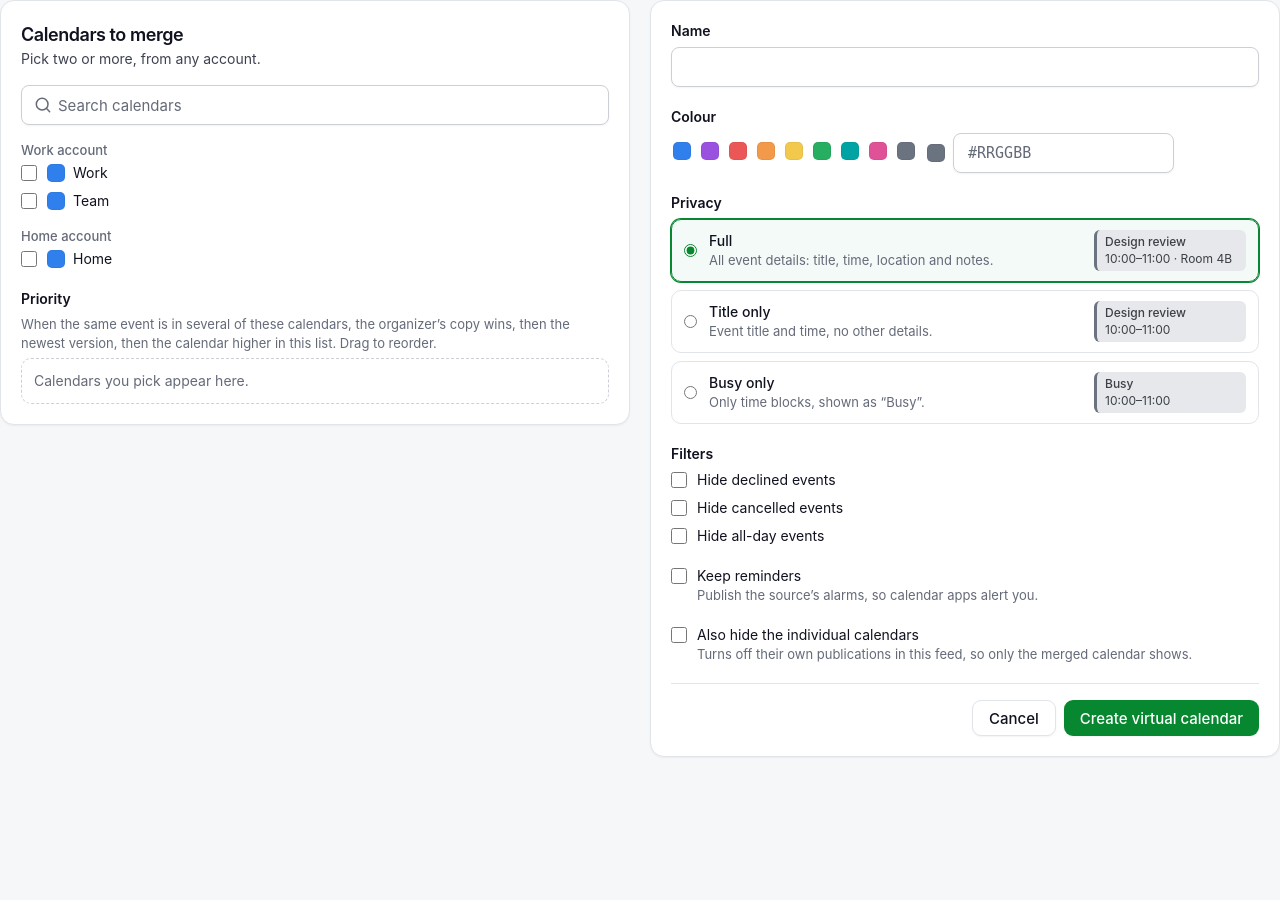
it: blocks saving with one source and says why
This screenshot has width=1280, height=900.
Type "Merged" into the field labelled "Name" at (965, 67), box [671, 47, 1259, 87]
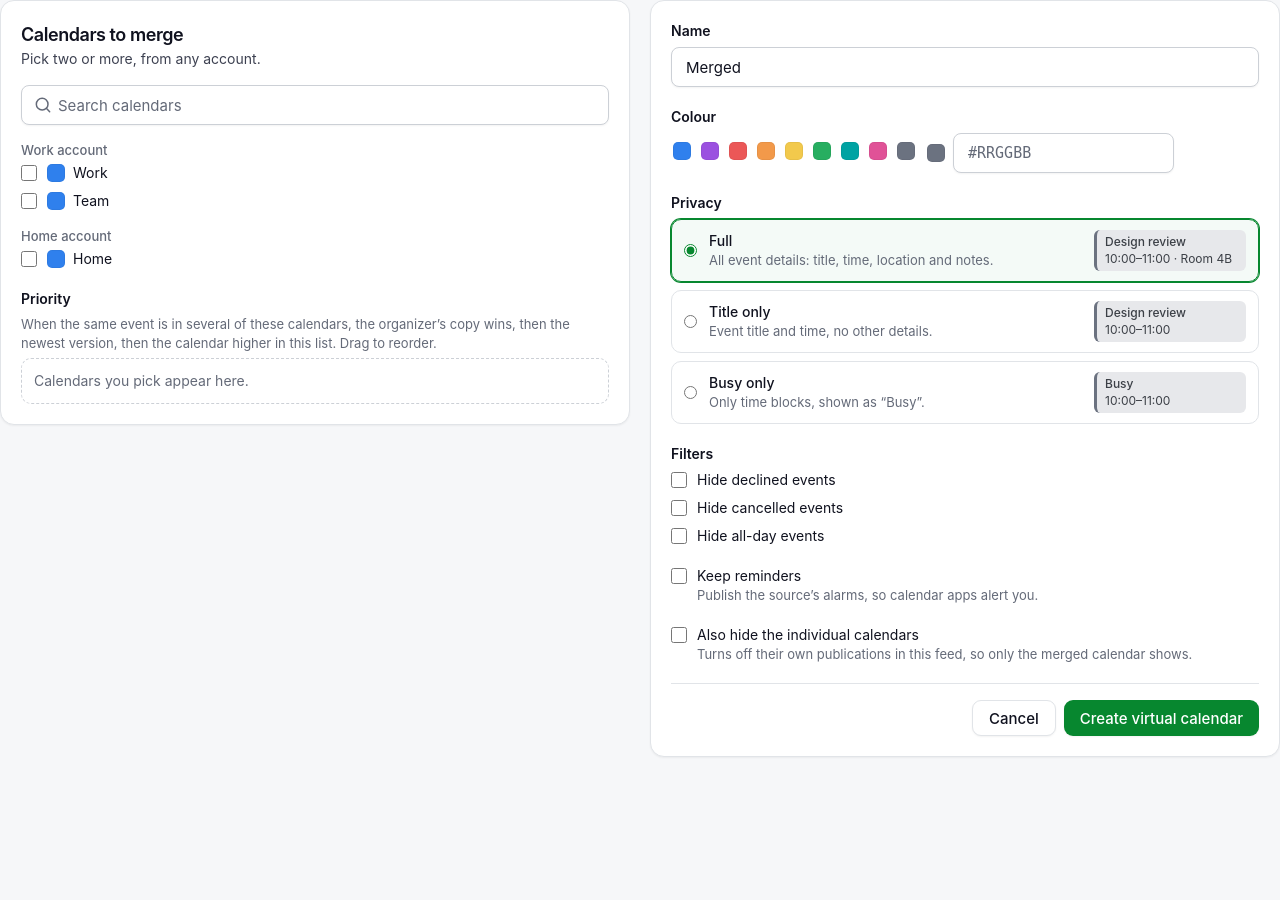
Click the checkbox labelled "Work" at (29, 173), box [21, 165, 37, 181]
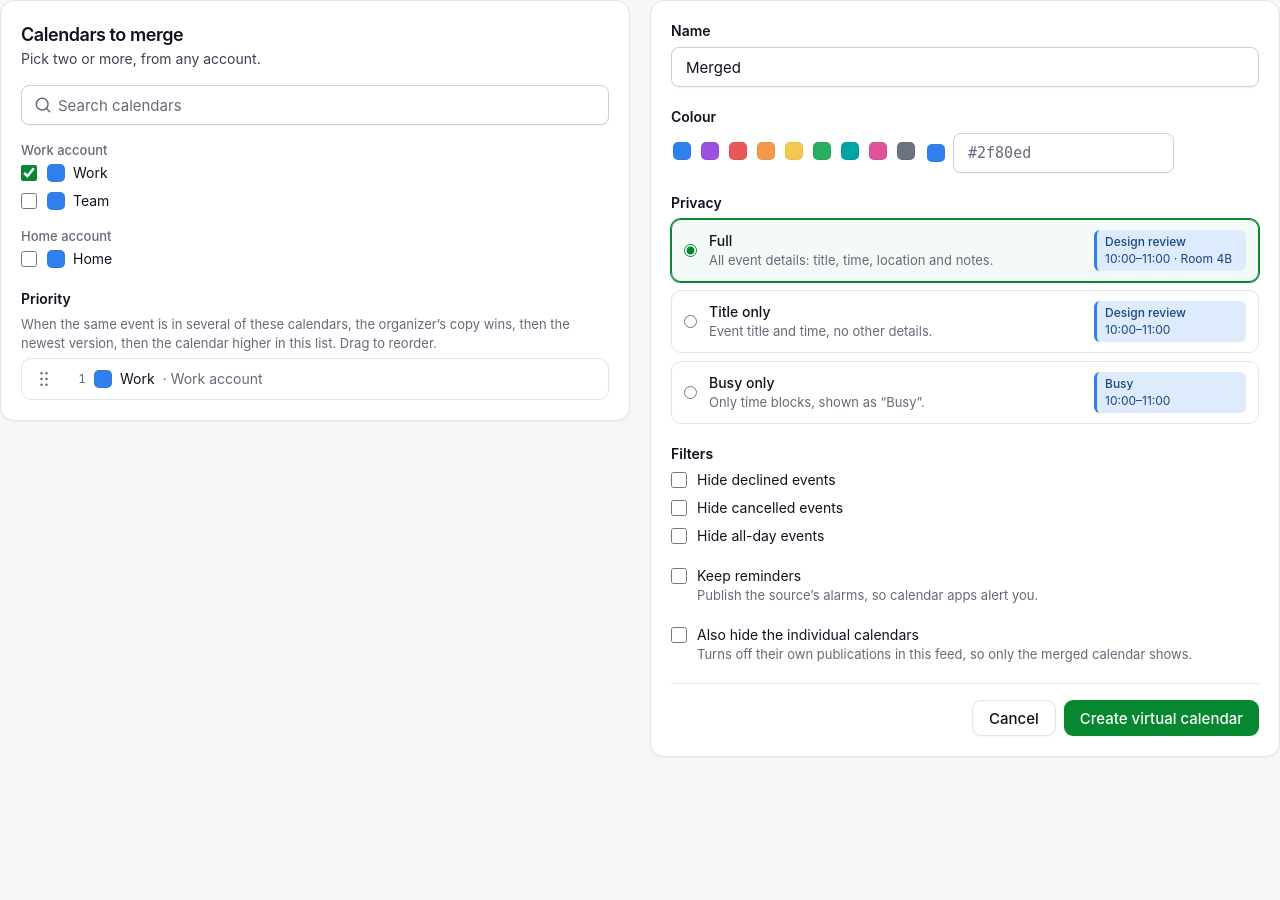
Click the button "Create virtual calendar" at (1161, 718), box [1064, 700, 1259, 736]
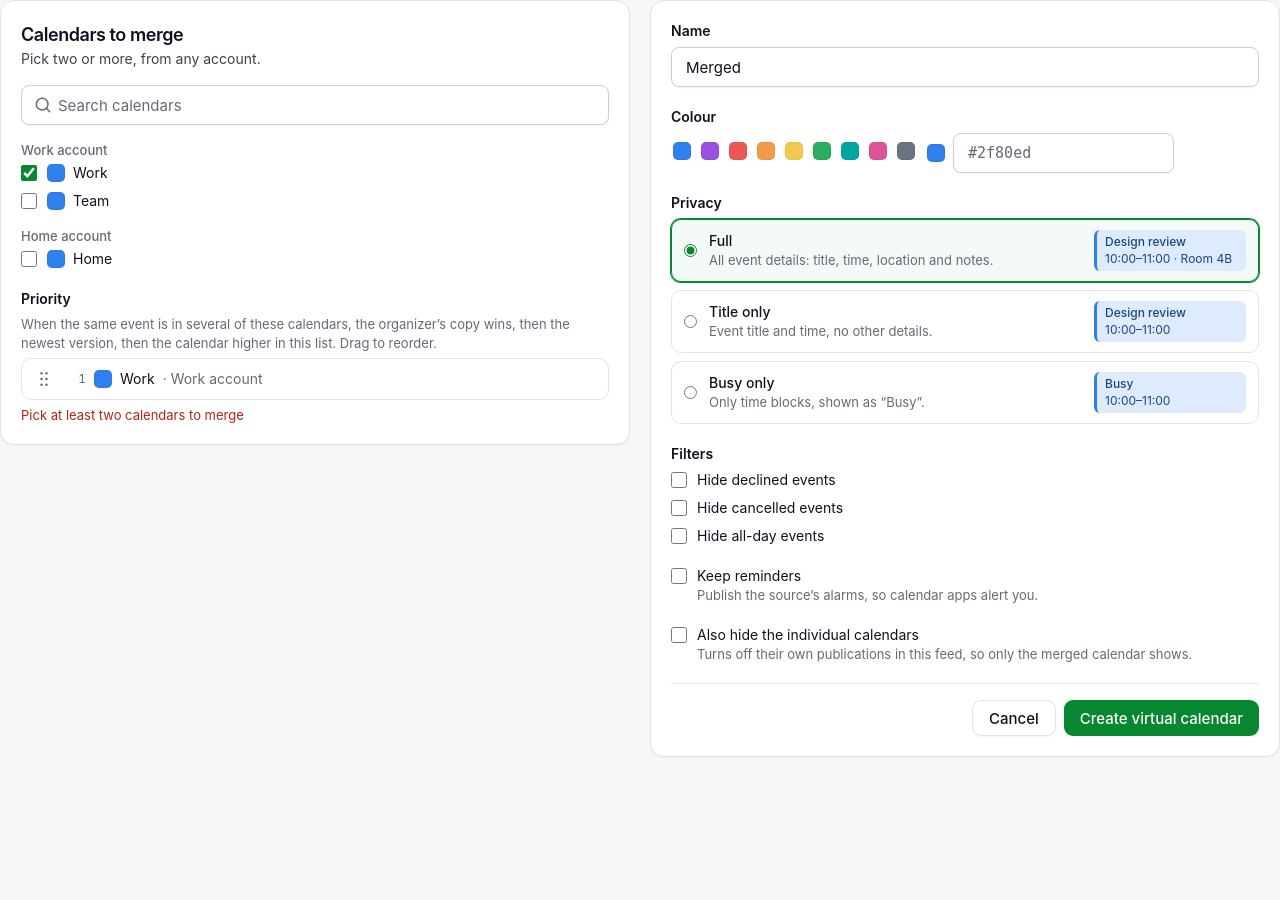
Expected: the message reads "Pick at least two calendars to merge", [21, 407, 244, 423]
Click the checkbox labelled "Home" at (29, 259), box [21, 251, 37, 267]
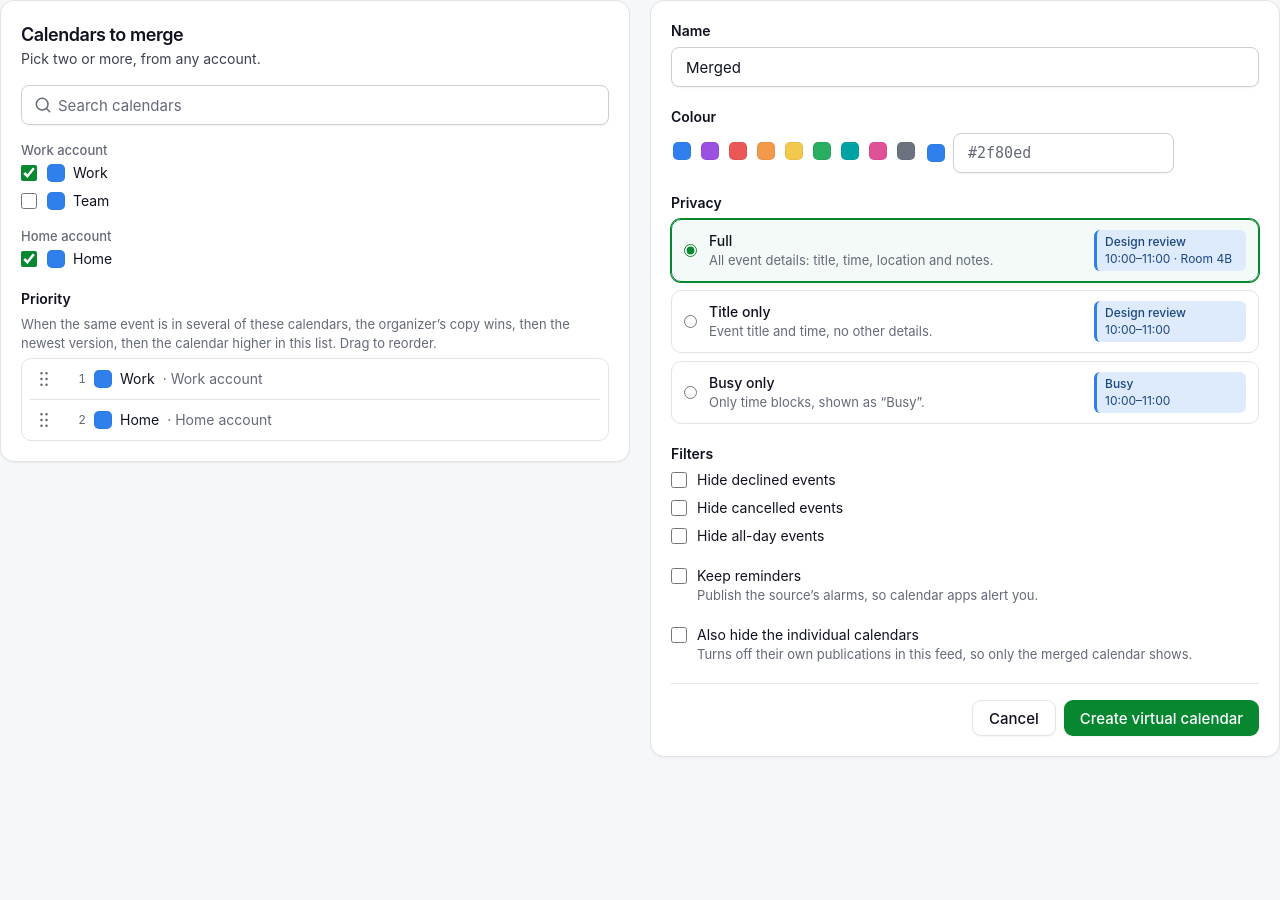
Expected: the text "Pick at least two calendars to merge" is gone
